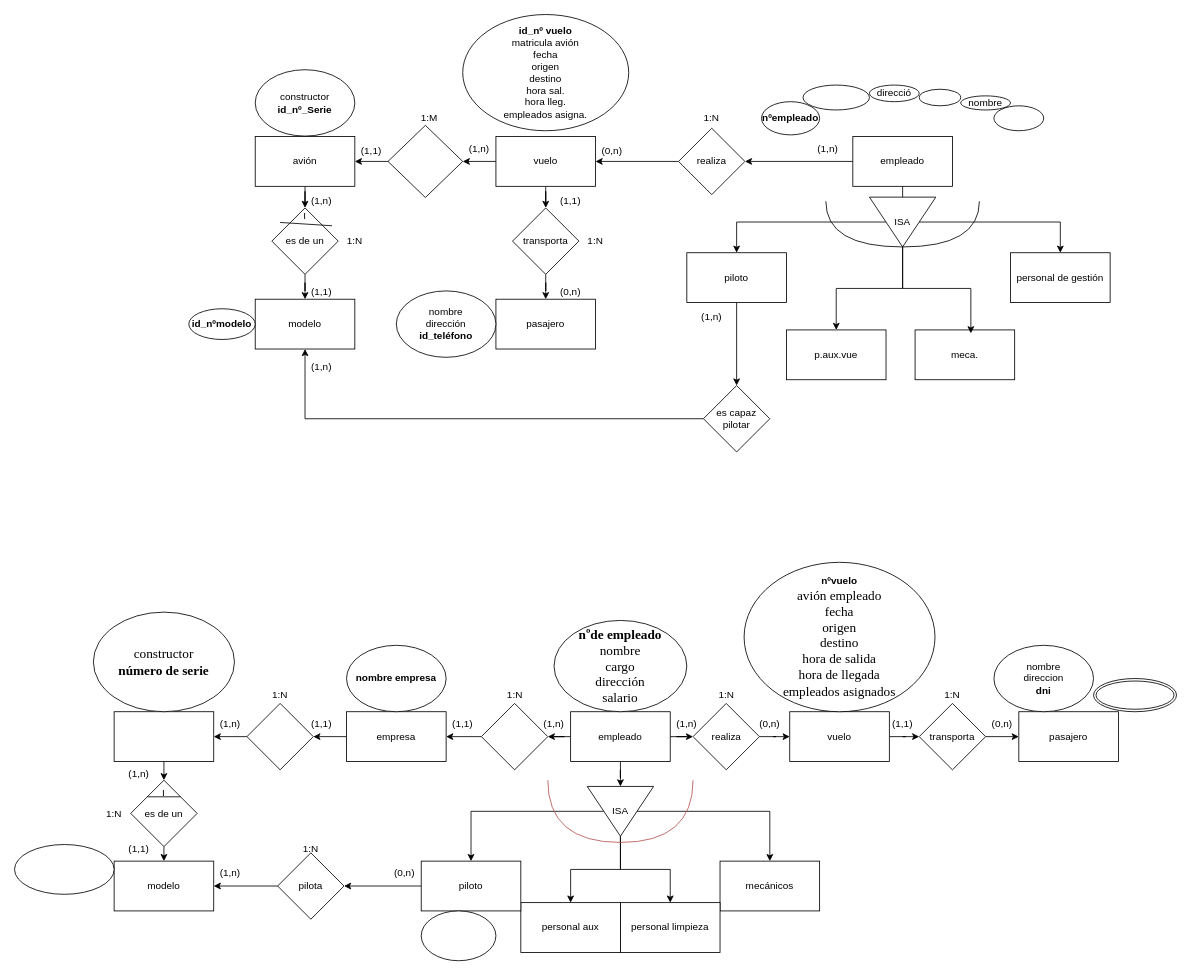
The diagram is 1191 pixels wide and 975 high, and some of its shapes have lost their labels. Each missing label, with the centre of its shape:
aviones: (163,736)
cargo: (1018,118)
es contratado: (514,736)
id_categoria: (835,97)
número de modelo: (64,869)
salario: (939,97)
se realiza: (425,161)
teléfono: (1135,695)
tiene: (279,736)
tipo licencia vuelo: (458,935)
